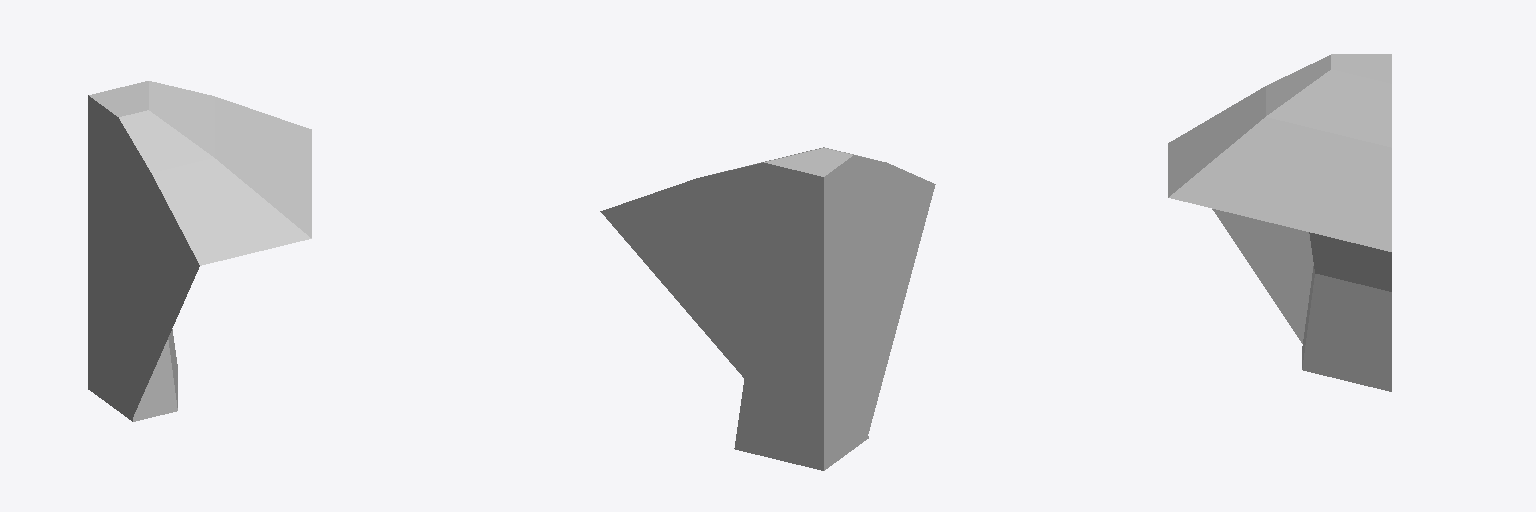
The model's file is mushroomQuarter.obj.
3 renders of one model, left to right at view 1: azimuth 30°, elevation 25°; view 2: azimuth 150°, elevation 25°; view 3: azimuth 270°, elevation 25°, orthographic.
Visible parts, largest first — view 1: mushroom_geo; view 2: mushroom_geo; view 3: mushroom_geo.
Part boxes in pixels (bbox=[...]): mushroom_geo: bbox=[88, 81, 311, 421]; mushroom_geo: bbox=[600, 147, 935, 470]; mushroom_geo: bbox=[1168, 54, 1391, 391].
Bounding box in the file's own units: 2.5 × 3.14 × 2.16.